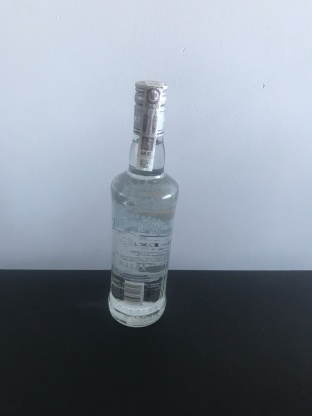nakretka: (131, 76, 169, 139)
